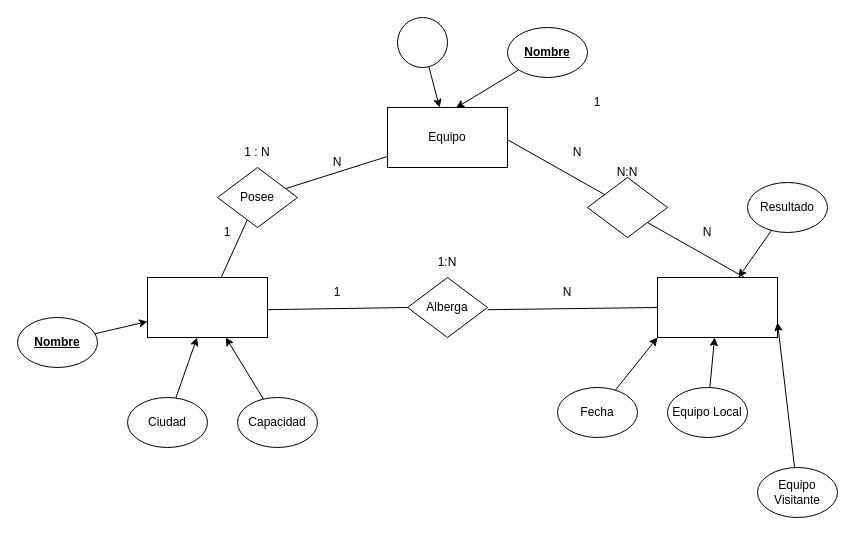
The diagram is 855 pixels wide and 535 high, and some of its shapes have lost their labels. The centre of each missing label's shape, as x and y in pixels:
Disputa: pixel 627 207
Estadio: pixel 207 307
Partido: pixel 717 307
Sede: pixel 422 42
